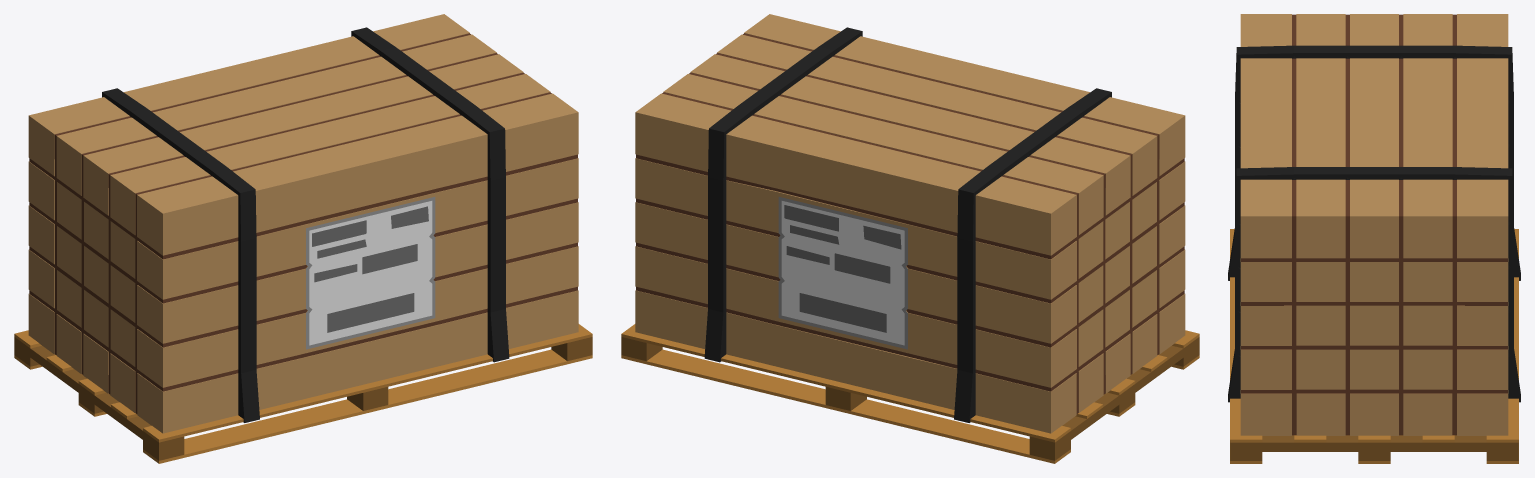
The model's file is Shipping Materials #3.fbx.
3 views of the same model, side by side, from view 1: azimuth 30°, elevation 25°; view 2: azimuth 150°, elevation 25°; view 3: azimuth 270°, elevation 25° (orthographic).
Visible parts, largest first — view 1: Shipping Materials #3; view 2: Shipping Materials #3; view 3: Shipping Materials #3.
Boxes of the visible parts, x1,y1,x2,y2 form: Shipping Materials #3: (14, 14, 592, 463); Shipping Materials #3: (621, 14, 1199, 463); Shipping Materials #3: (1228, 14, 1520, 463).
Size of the model in its own units: 412 by 440 by 750.
1 material, 1 textured.
